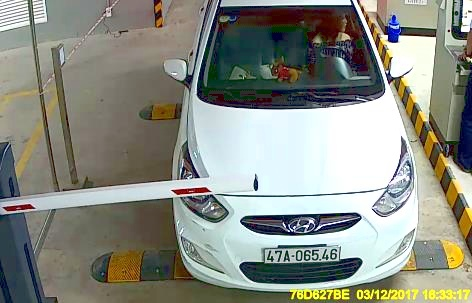plate: (261, 240, 340, 264)
